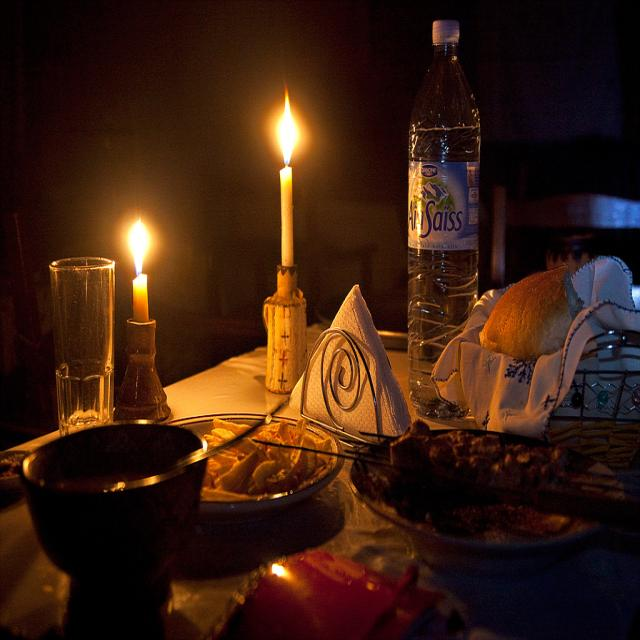Bottle: (407, 10, 484, 409)
Cup: (44, 251, 118, 423)
